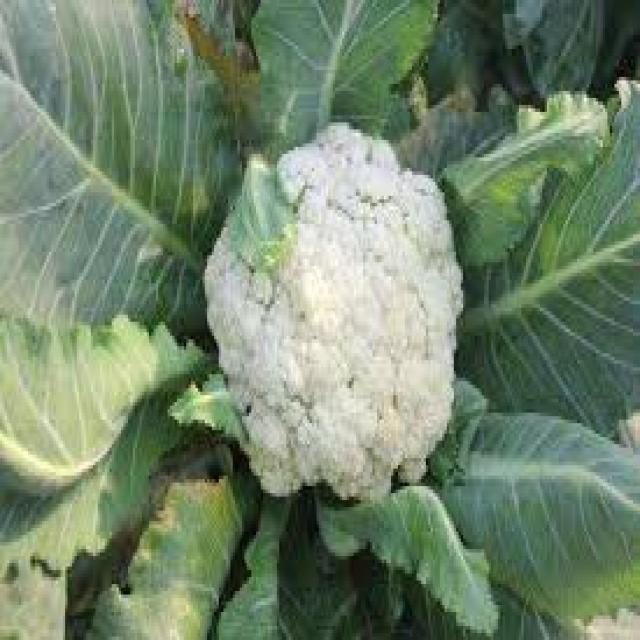organic waste: (0, 0, 638, 637), (202, 116, 458, 490)
